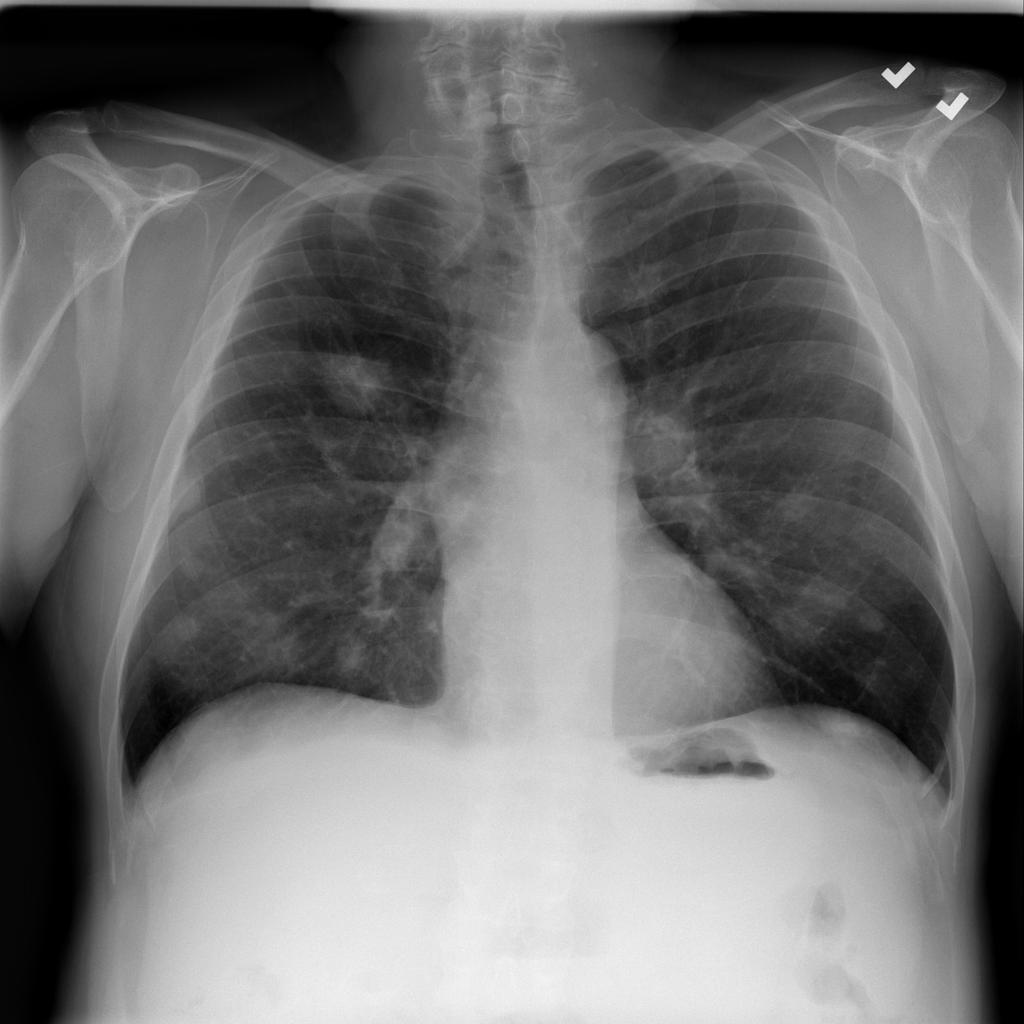nodule: (299, 327, 415, 430), (764, 466, 839, 539), (798, 695, 881, 758), (153, 453, 225, 525), (315, 617, 388, 688), (146, 595, 221, 664), (158, 528, 232, 596), (845, 599, 903, 645)
